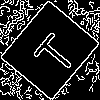T: (25, 25, 80, 78)
